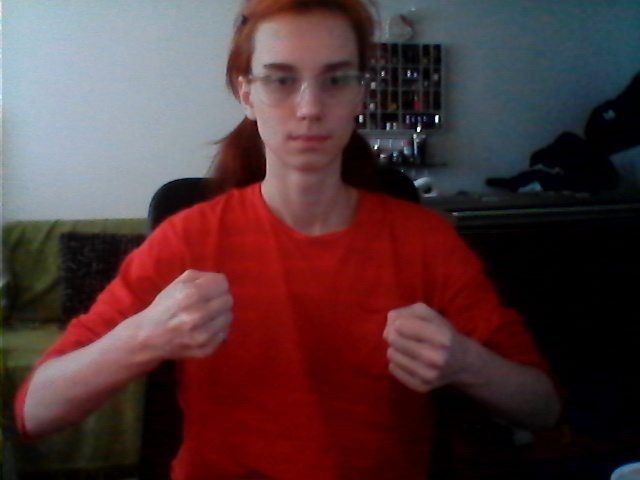auto: (150, 266, 462, 417)
